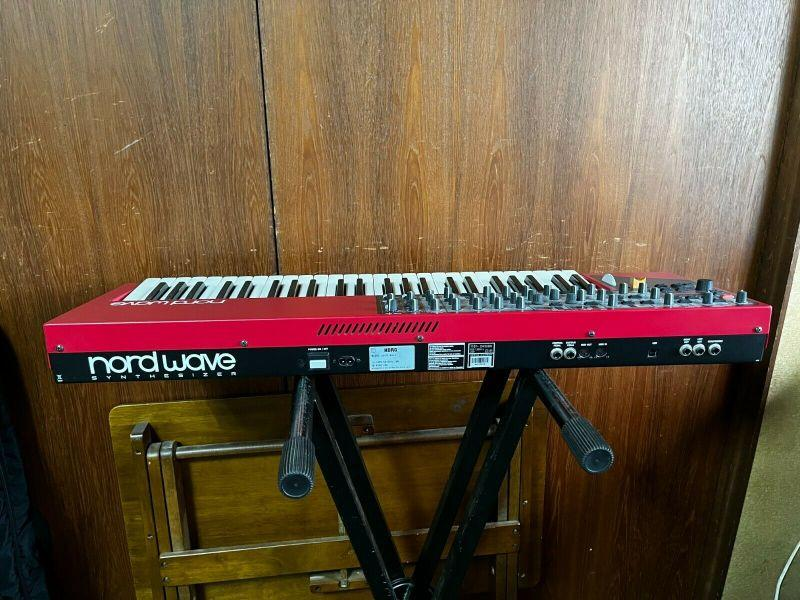synthesizer: (38, 250, 773, 391)
